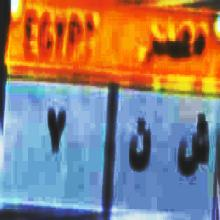7: (44, 101, 71, 162)
noon: (127, 113, 153, 181)
sheen: (170, 105, 214, 183)
